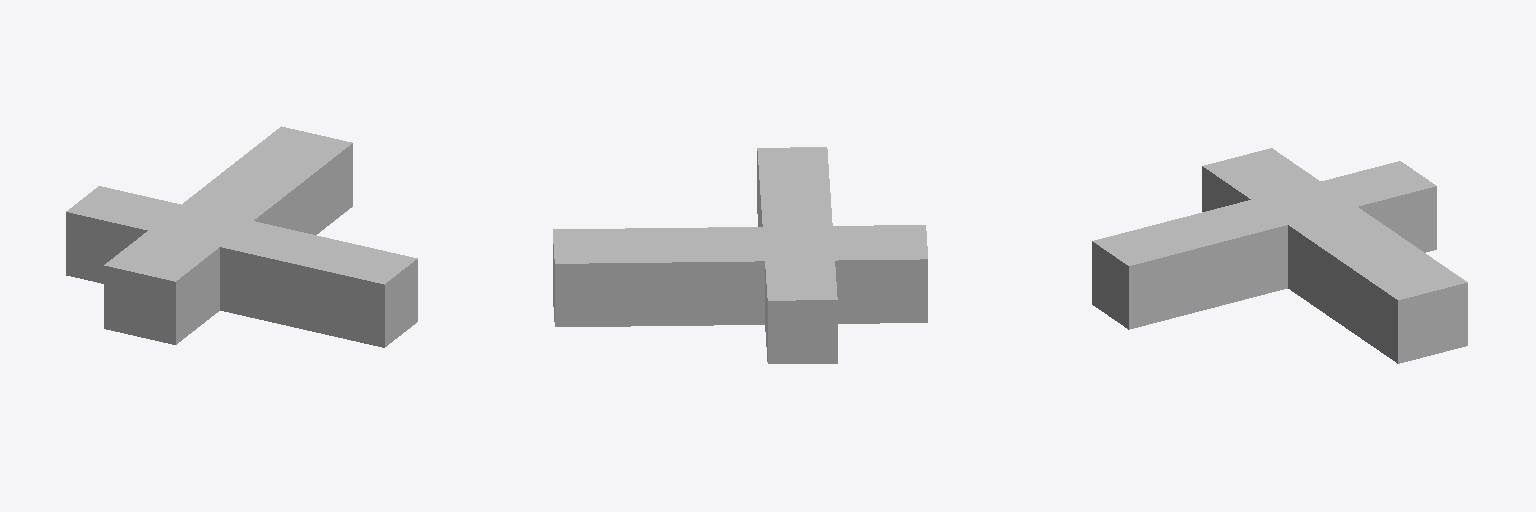
The model's file is gateway.obj.
The picture shows the model from 3 angles: view 1: azimuth 30°, elevation 25°; view 2: azimuth 150°, elevation 25°; view 3: azimuth 270°, elevation 25°; orthographic projection.
Size of the model in its own units: 31.83 by 6.18 by 33.13.